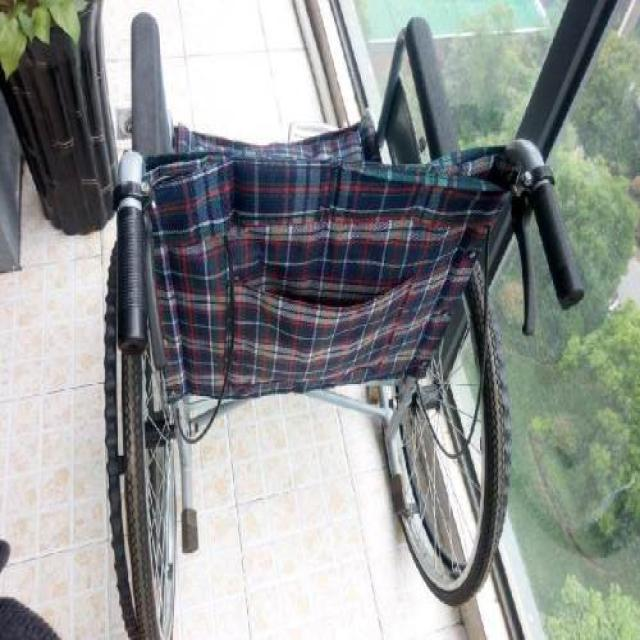wheelchairs: (79, 4, 584, 640)
